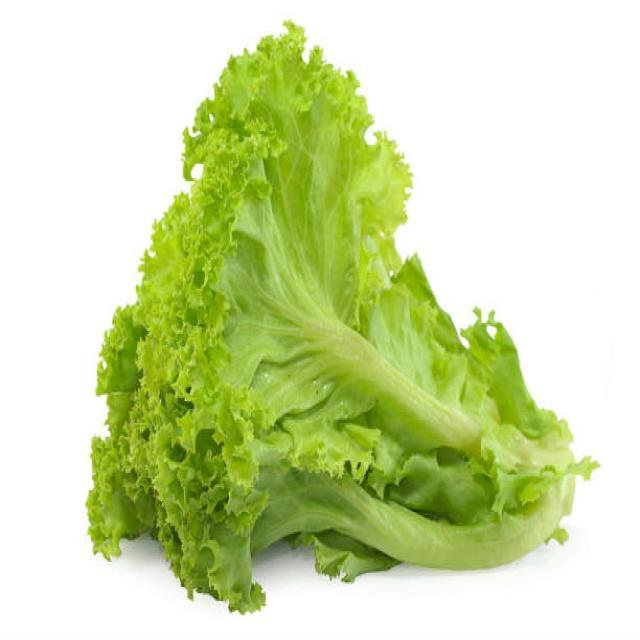Lettuce-Ready-to-Harvest: (85, 17, 589, 610)
